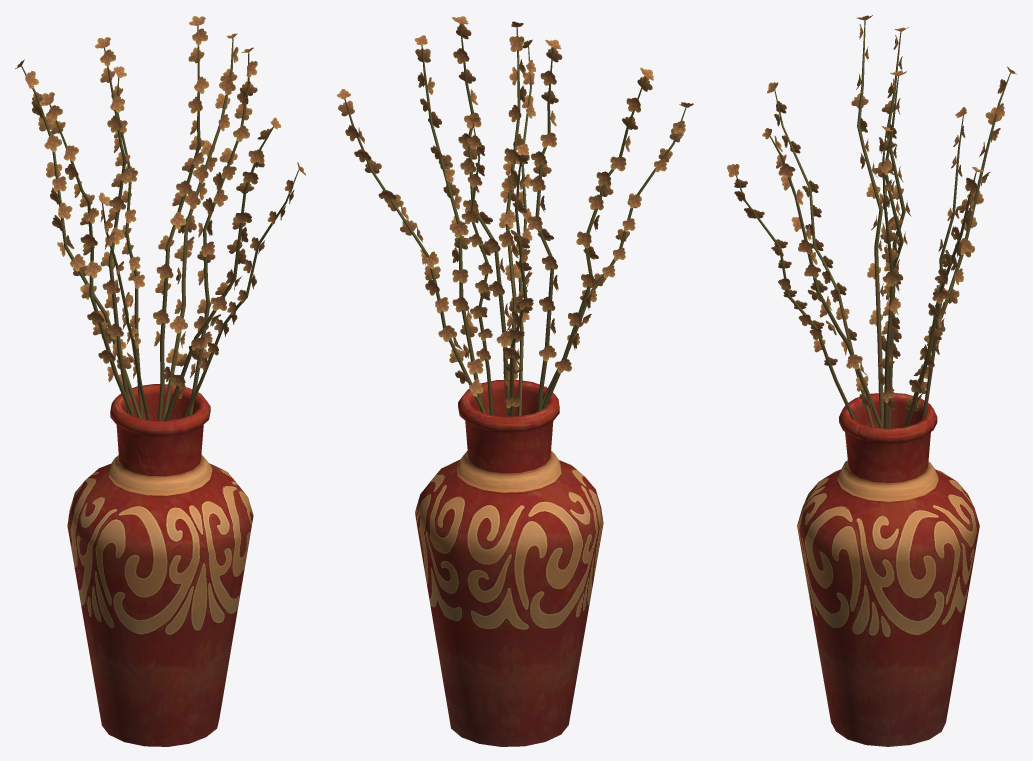
Rendered from SM_Props_Plant_07.fbx.
3 renders of one model, left to right at view 1: azimuth 30°, elevation 25°; view 2: azimuth 150°, elevation 25°; view 3: azimuth 270°, elevation 25°, orthographic. The views are drawn at different scales.
Parts seen in each view (by area): view 1: SM_Props_Plant_07; view 2: SM_Props_Plant_07; view 3: SM_Props_Plant_07.
Boxes of the visible parts, x1,y1,x2,y2 form: SM_Props_Plant_07: (15, 16, 305, 746); SM_Props_Plant_07: (336, 16, 693, 746); SM_Props_Plant_07: (727, 15, 1016, 746).
Size of the model in its own units: 58.9 by 151 by 59.76.
